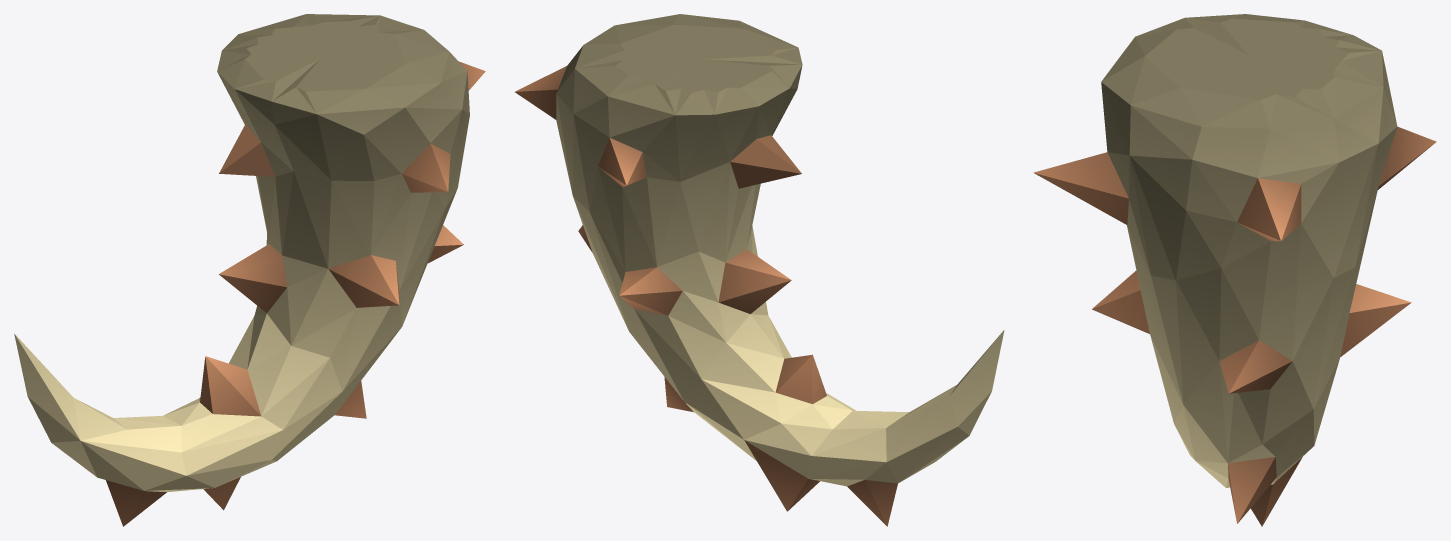
File: Bramble_Asset_1.fbx
3 renders of one model, left to right at view 1: azimuth 30°, elevation 25°; view 2: azimuth 150°, elevation 25°; view 3: azimuth 270°, elevation 25°, orthographic. The views are drawn at different scales.
Visible parts, largest first — view 1: Bramble; view 2: Bramble; view 3: Bramble.
Boxes of the visible parts, x1,y1,x2,y2 form: Bramble: (14, 14, 485, 526); Bramble: (515, 14, 1004, 526); Bramble: (1033, 14, 1436, 526).
Bounding box in the file's own units: 154 × 132 × 91.4.
